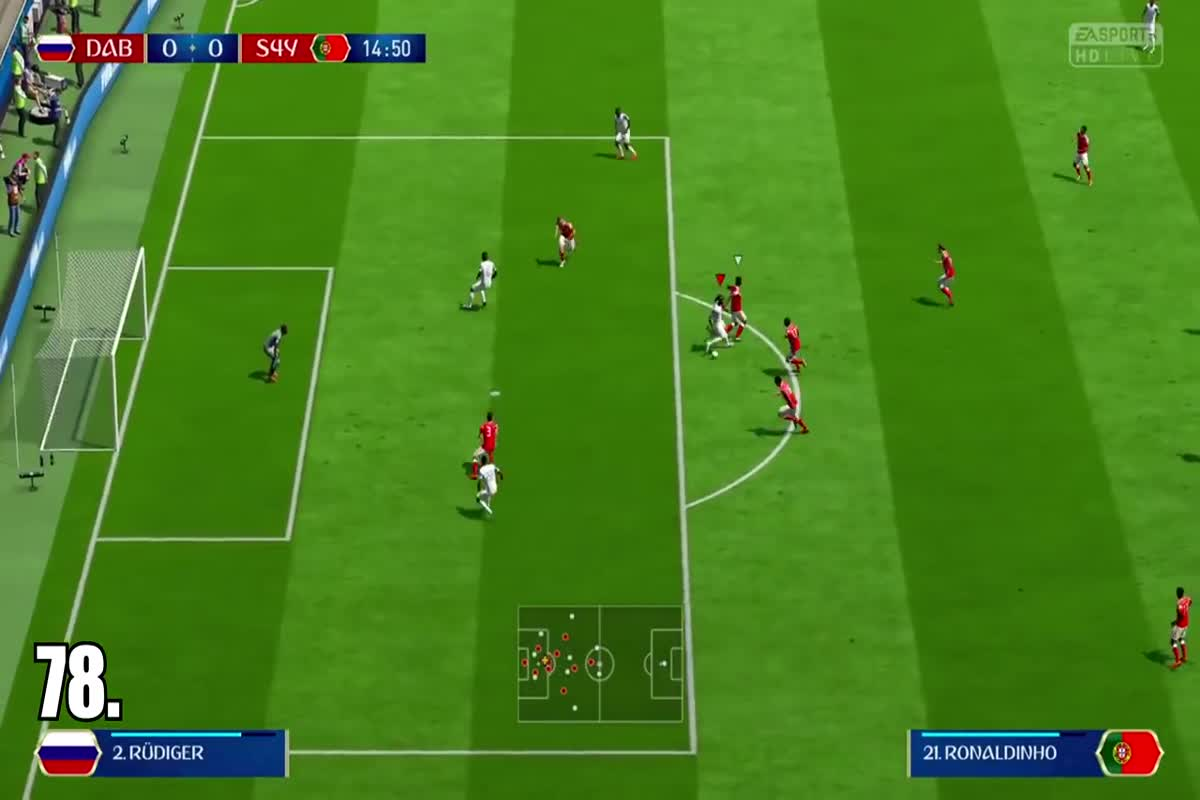ball: (699, 345, 731, 362)
